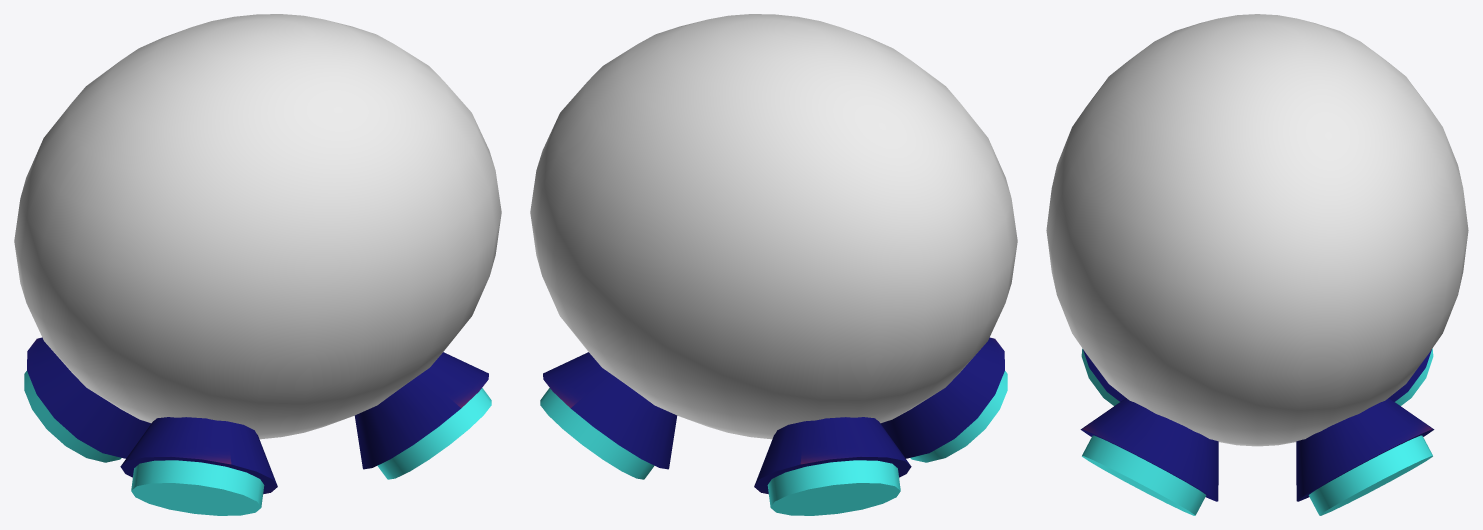
File: piranha01.fbx
3 renders of one model, left to right at view 1: azimuth 30°, elevation 25°; view 2: azimuth 150°, elevation 25°; view 3: azimuth 270°, elevation 25°, orthographic.
Parts seen in each view (by area): view 1: cupula, Cylinder.003; view 2: cupula, Cylinder.003; view 3: cupula, Cylinder.003.
Boxes of the visible parts, <box> form: cupula: <box>14,14,501,439</box>; Cylinder.003: <box>24,337,491,515</box>; cupula: <box>530,14,1017,439</box>; Cylinder.003: <box>540,337,1007,515</box>; cupula: <box>1046,14,1468,446</box>; Cylinder.003: <box>1080,348,1434,515</box>.
Bounding box in the file's own units: 502 × 467 × 423.
